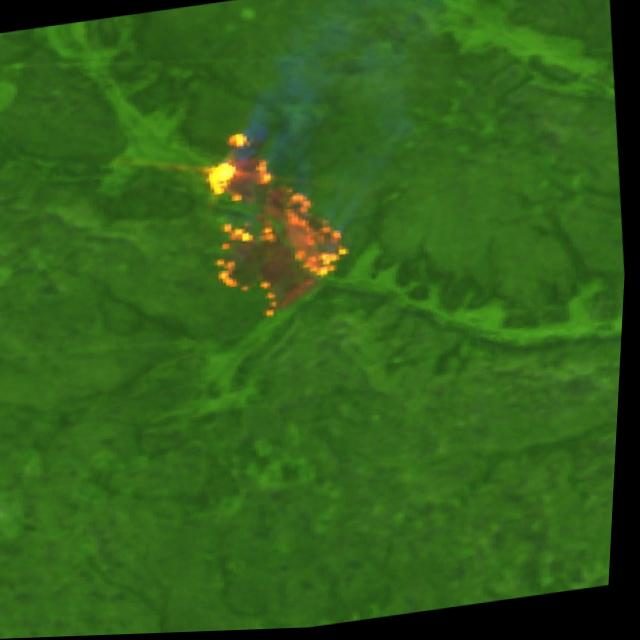fire: (192, 114, 367, 331)
